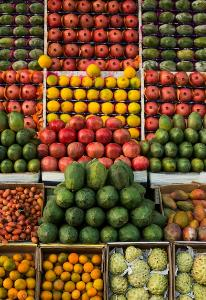mango: (34, 169, 160, 244), (142, 0, 206, 74), (52, 74, 144, 116), (0, 2, 46, 64), (160, 184, 206, 240), (0, 112, 42, 172), (147, 137, 206, 177)
orange: (36, 248, 106, 300), (0, 250, 34, 300)
pomegranate: (50, 0, 146, 72), (38, 116, 146, 174), (145, 68, 206, 138), (0, 68, 46, 132)
